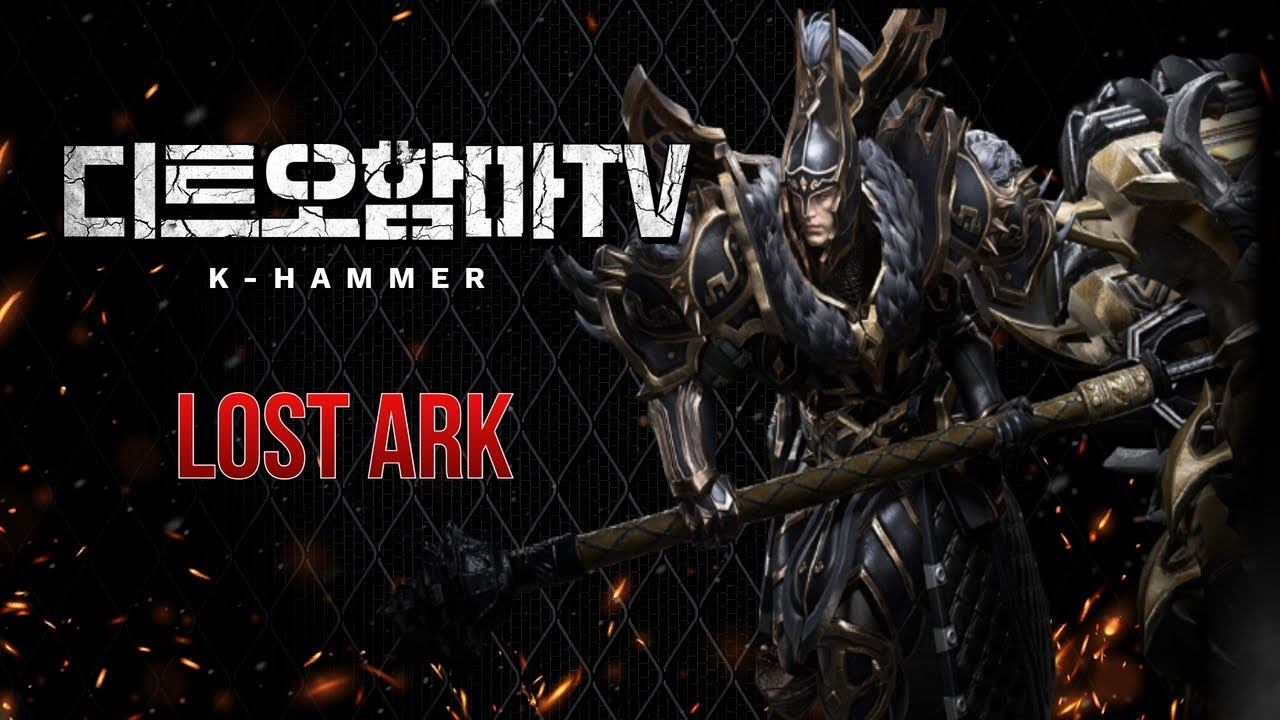디트오함마TV: (60, 140, 693, 243)
